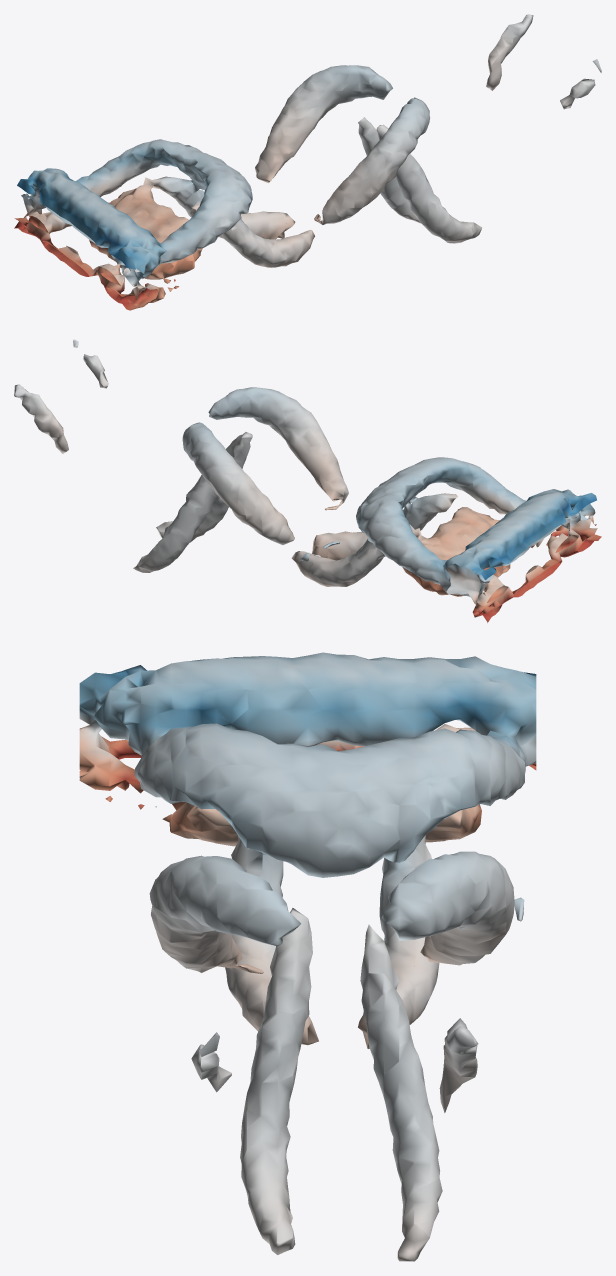
The picture shows the model from 3 angles, top to bottom: view 1: azimuth 30°, elevation 25°; view 2: azimuth 150°, elevation 25°; view 3: azimuth 270°, elevation 25°; orthographic projection. The views are drawn at different scales.
Size of the model in its own units: 6.25 by 2.05 by 2.5.
